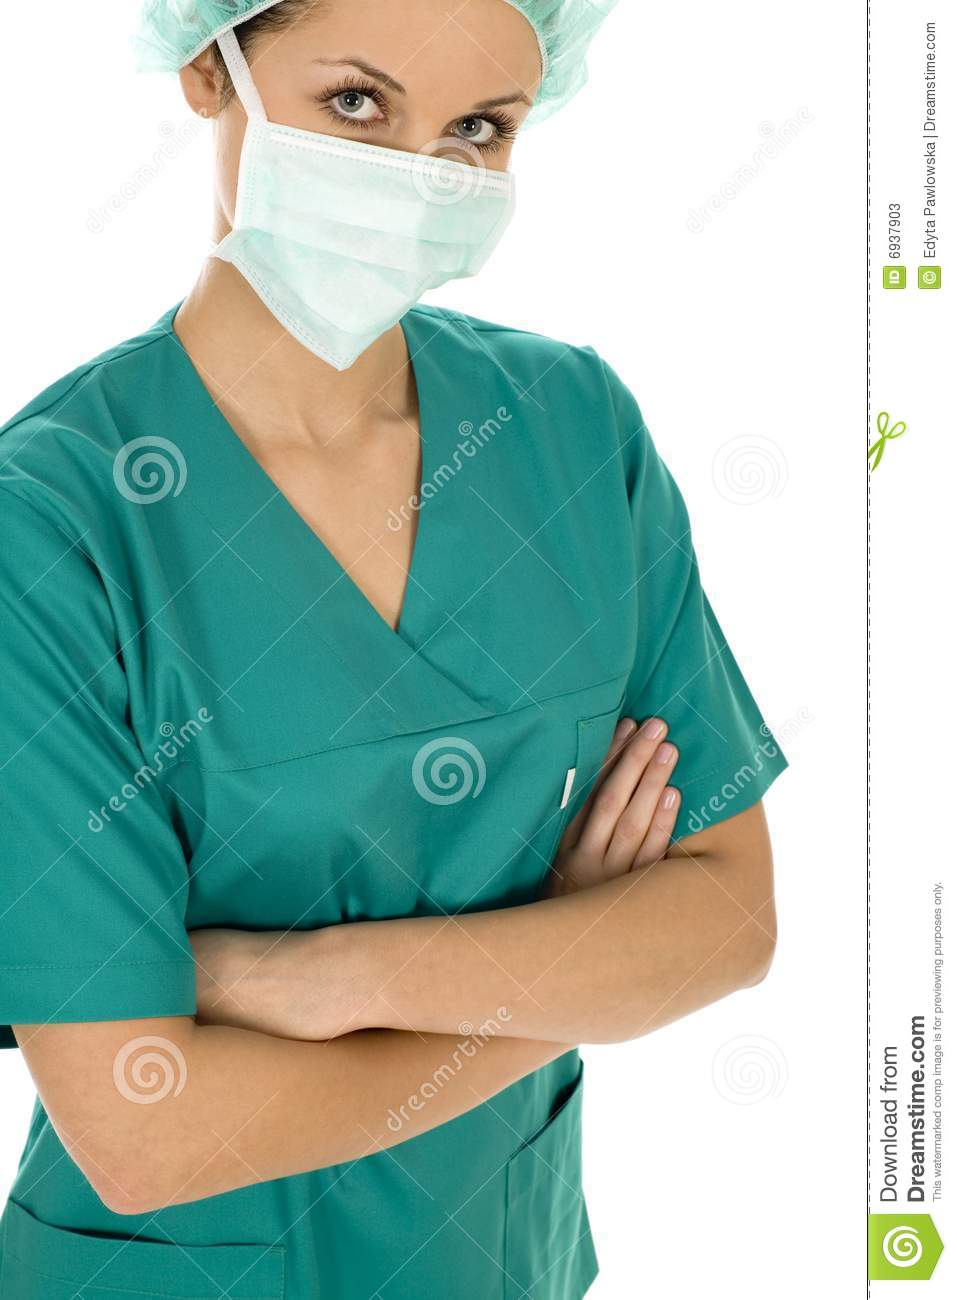mask: (218, 113, 506, 371)
